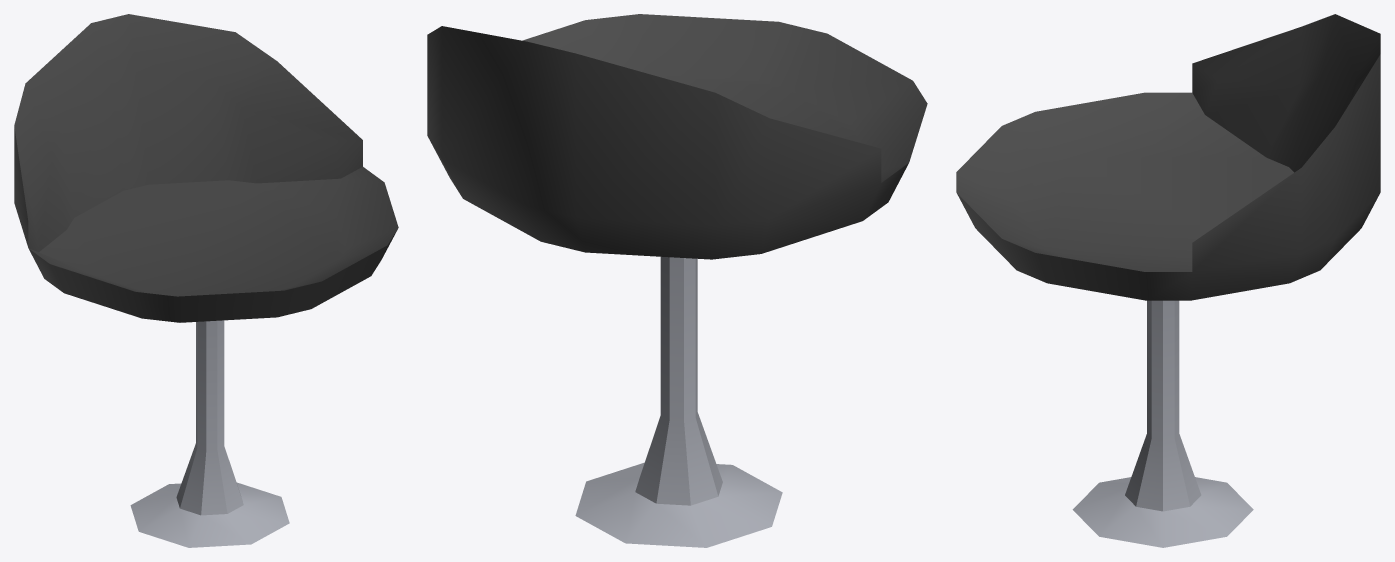
The model's file is ModernStoolLow.glb.
3 views of the same model, side by side, from view 1: azimuth 30°, elevation 25°; view 2: azimuth 150°, elevation 25°; view 3: azimuth 270°, elevation 25° (orthographic). The views are drawn at different scales.
Visible parts, largest first — view 1: modernStool_low; view 2: modernStool_low; view 3: modernStool_low.
Part boxes in pixels (x1=…): modernStool_low: x1=14, y1=14, x2=398, y2=547; modernStool_low: x1=427, y1=14, x2=927, y2=547; modernStool_low: x1=956, y1=14, x2=1380, y2=547.
Bounding box in the file's own units: 0.7252 × 0.8772 × 0.7252.
Materials: 1 (1 with a texture image).
